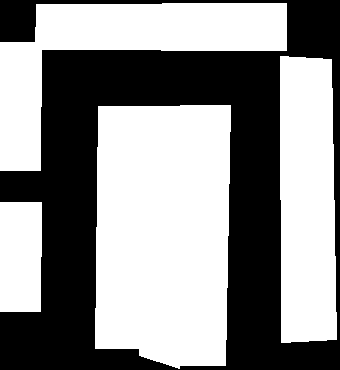parkingspot: (280, 56, 336, 342), (175, 105, 230, 365), (95, 106, 146, 348), (138, 106, 184, 368), (35, 3, 286, 50), (0, 42, 41, 170), (0, 202, 41, 311)
